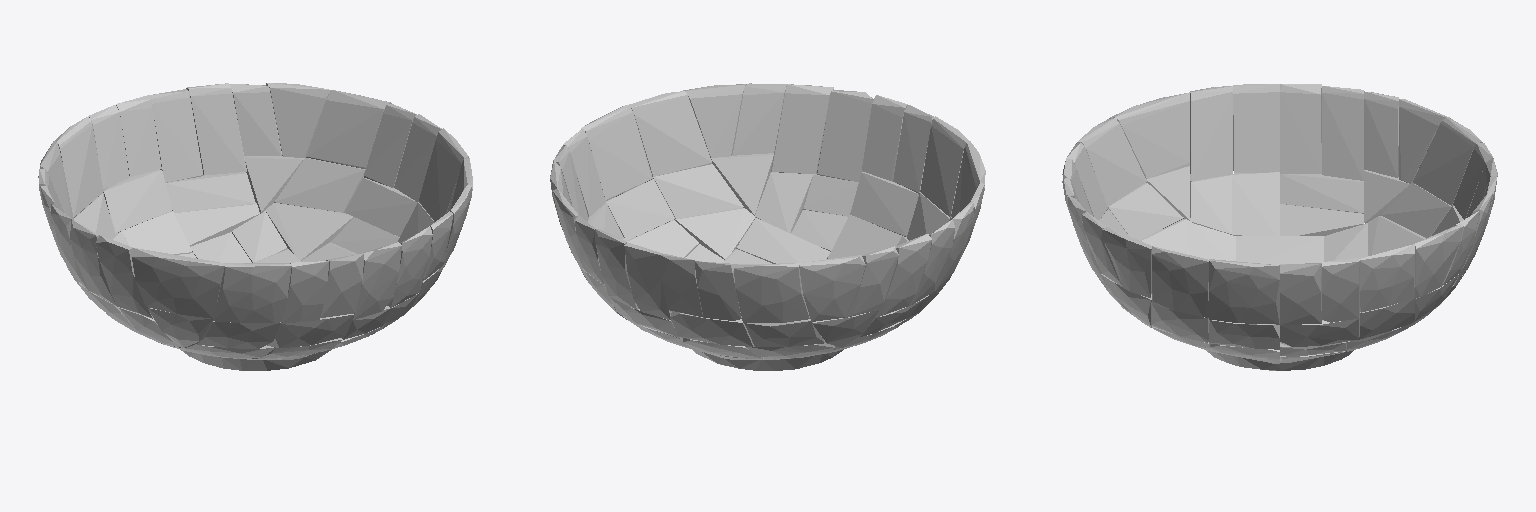
File: bowl_vhacd.obj
3 views of the same model, side by side, from view 1: azimuth 30°, elevation 25°; view 2: azimuth 150°, elevation 25°; view 3: azimuth 270°, elevation 25° (orthographic).
Visible parts, largest first — view 1: convex_27, convex_21, convex_63, convex_16, convex_15, convex_20, convex_18, convex_47, convex_19, convex_12, convex_17, convex_14 (+28 smaller); view 2: convex_36, convex_28, convex_39, convex_47, convex_38, convex_4, convex_35, convex_41, convex_63, convex_40, convex_31, convex_66 (+28 smaller); view 3: convex_27, convex_28, convex_25, convex_26, convex_8, convex_9, convex_36, convex_63, convex_47, convex_21, convex_23, convex_5 (+28 smaller).
Boxes of the visible parts, x1=… form: convex_27: x1=132, y1=248, x2=224, y2=318; convex_21: x1=306, y1=90, x2=391, y2=168; convex_63: x1=212, y1=263, x2=291, y2=322; convex_16: x1=186, y1=83, x2=246, y2=175; convex_15: x1=148, y1=89, x2=203, y2=182; convex_20: x1=274, y1=158, x2=365, y2=212; convex_18: x1=266, y1=83, x2=330, y2=157; convex_47: x1=55, y1=116, x2=103, y2=217; convex_19: x1=265, y1=203, x2=353, y2=260; convex_12: x1=103, y1=169, x2=171, y2=233; convex_17: x1=229, y1=84, x2=281, y2=155; convex_14: x1=166, y1=172, x2=255, y2=212; convex_36: x1=628, y1=91, x2=711, y2=176; convex_28: x1=581, y1=105, x2=652, y2=200; convex_39: x1=771, y1=84, x2=833, y2=173; convex_47: x1=733, y1=263, x2=809, y2=322; convex_38: x1=817, y1=90, x2=873, y2=181; convex_4: x1=799, y1=255, x2=865, y2=321; convex_35: x1=653, y1=164, x2=743, y2=218; convex_41: x1=683, y1=84, x2=746, y2=157; convex_63: x1=920, y1=116, x2=968, y2=216; convex_40: x1=733, y1=83, x2=786, y2=155; convex_31: x1=850, y1=172, x2=918, y2=236; convex_66: x1=862, y1=95, x2=907, y2=181; convex_27: x1=1109, y1=92, x2=1189, y2=178; convex_28: x1=1209, y1=259, x2=1279, y2=324; convex_25: x1=1233, y1=84, x2=1279, y2=172; convex_26: x1=1190, y1=86, x2=1232, y2=180; convex_8: x1=1322, y1=86, x2=1363, y2=180; convex_9: x1=1280, y1=84, x2=1321, y2=173; convex_36: x1=1152, y1=246, x2=1208, y2=317; convex_63: x1=1076, y1=118, x2=1146, y2=205; convex_47: x1=1413, y1=117, x2=1482, y2=205; convex_21: x1=1359, y1=244, x2=1414, y2=312; convex_23: x1=1232, y1=172, x2=1279, y2=235; convex_5: x1=1364, y1=91, x2=1398, y2=177.
Size of the model in its own units: 0.193 by 0.0803 by 0.193.